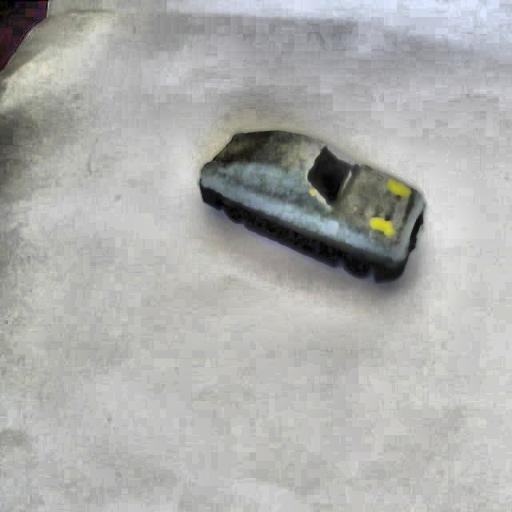normal_car: (196, 126, 430, 285)
